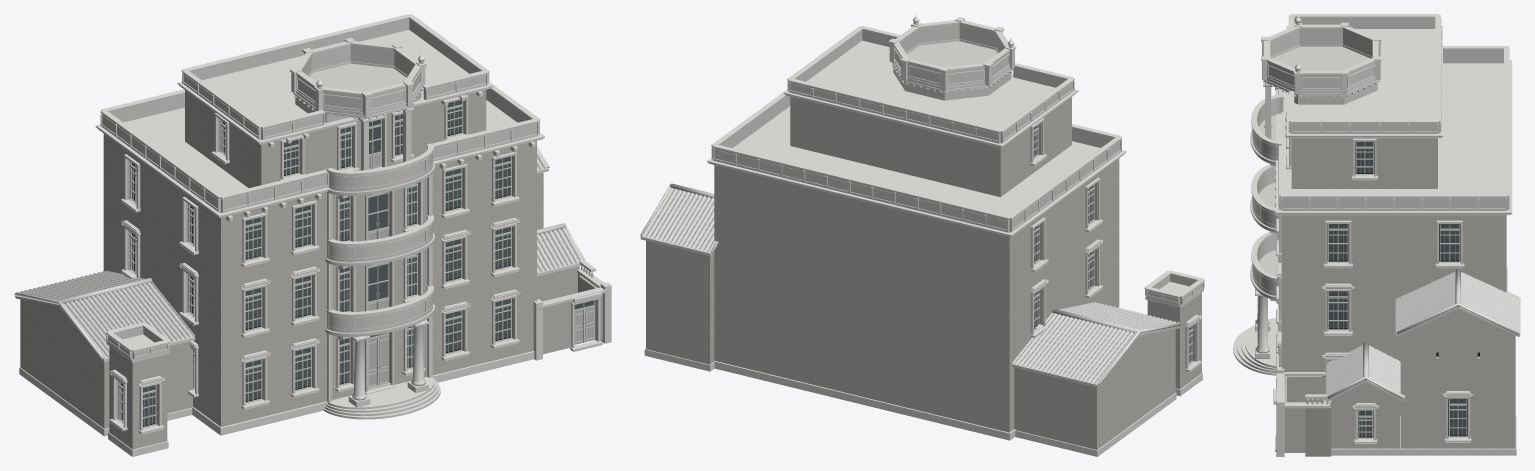
File: feijilou.glb
The picture shows the model from 3 angles, left to right: view 1: azimuth 30°, elevation 25°; view 2: azimuth 150°, elevation 25°; view 3: azimuth 270°, elevation 25°; orthographic projection. The views are drawn at different scales.
Parts seen in each view (by area): view 1: 01_Main_Floor_1__White brick masonry / 2.8m UV repeat, 00_Base__Pale sandstone window surrounds, 01_Main_Floor_1__Warm weathered lime plaster, 01_Main_Floor_1__Dark glazing, 01_Main_Floor_1__Muted green-grey timber, 10_Right_Annexes_Inferred__Grey clay tile 0, 01_Main_Floor_1__Aged dark timber doors; view 2: 01_Main_Floor_1__White brick masonry / 2.8m UV repeat, 00_Base__Pale sandstone window surrounds, 01_Main_Floor_1__Warm weathered lime plaster, 10_Right_Annexes_Inferred__Grey clay tile 0, 01_Main_Floor_1__Muted green-grey timber; view 3: 01_Main_Floor_1__White brick masonry / 2.8m UV repeat, 00_Base__Pale sandstone window surrounds, 01_Main_Floor_1__Warm weathered lime plaster, 10_Right_Annexes_Inferred__Grey clay tile 0, 01_Main_Floor_1__Dark glazing, 01_Main_Floor_1__Muted green-grey timber, 01_Main_Floor_1__Unlit window recess.
Part boxes in pixels (left/top/right/bottom): 01_Main_Floor_1__White brick masonry / 2.8m UV repeat: left=20, top=90, right=602, bottom=449; 00_Base__Pale sandstone window surrounds: left=14, top=14, right=611, bottom=456; 01_Main_Floor_1__Warm weathered lime plaster: left=102, top=18, right=538, bottom=389; 01_Main_Floor_1__Dark glazing: left=120, top=100, right=593, bottom=425; 01_Main_Floor_1__Muted green-grey timber: left=118, top=101, right=595, bottom=426; 10_Right_Annexes_Inferred__Grey clay tile 0: left=15, top=150, right=583, bottom=362; 01_Main_Floor_1__Aged dark timber doors: left=368, top=154, right=594, bottom=387; 01_Main_Floor_1__White brick masonry / 2.8m UV repeat: left=646, top=97, right=1201, bottom=449; 00_Base__Pale sandstone window surrounds: left=640, top=14, right=1204, bottom=456; 01_Main_Floor_1__Warm weathered lime plaster: left=713, top=24, right=1203, bottom=305; 10_Right_Annexes_Inferred__Grey clay tile 0: left=641, top=183, right=1179, bottom=387; 01_Main_Floor_1__Muted green-grey timber: left=1033, top=125, right=1193, bottom=363; 01_Main_Floor_1__White brick masonry / 2.8m UV repeat: left=1281, top=138, right=1515, bottom=456; 00_Base__Pale sandstone window surrounds: left=1233, top=14, right=1520, bottom=456; 01_Main_Floor_1__Warm weathered lime plaster: left=1250, top=18, right=1508, bottom=300; 10_Right_Annexes_Inferred__Grey clay tile 0: left=1326, top=269, right=1520, bottom=401; 01_Main_Floor_1__Dark glazing: left=1329, top=142, right=1466, bottom=436; 01_Main_Floor_1__Muted green-grey timber: left=1328, top=142, right=1467, bottom=438; 01_Main_Floor_1__Unlit window recess: left=1327, top=142, right=1479, bottom=437.
Size of the model in its own units: 29.22 by 18.8 by 15.73.
9 materials, 1 textured.
